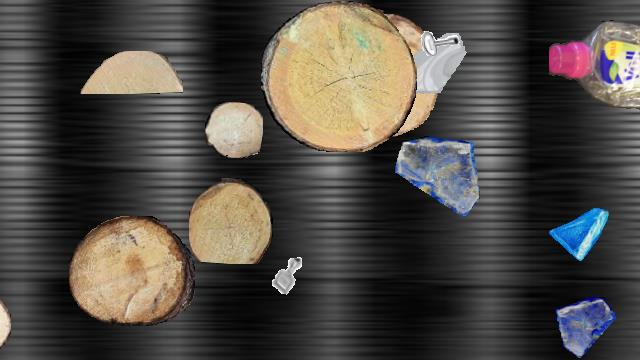glass: (395, 136, 479, 220), (395, 33, 471, 109), (555, 297, 617, 359), (548, 201, 608, 261)
metal: (410, 1, 464, 55), (262, 250, 314, 302)
plastic: (549, 18, 640, 126)
wood: (261, 1, 417, 151), (321, 14, 439, 138), (69, 216, 195, 326), (189, 178, 273, 264), (80, 51, 182, 93), (205, 102, 263, 158), (0, 294, 10, 352), (639, 43, 640, 111)
